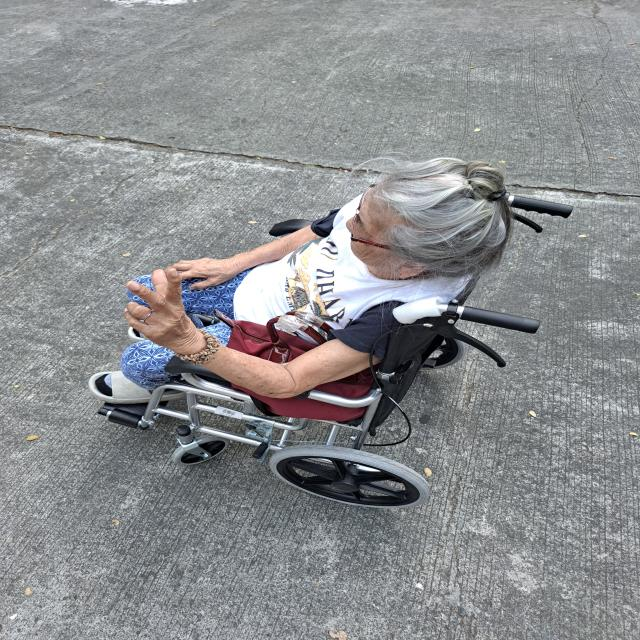wheelchairs: (96, 196, 573, 509)
